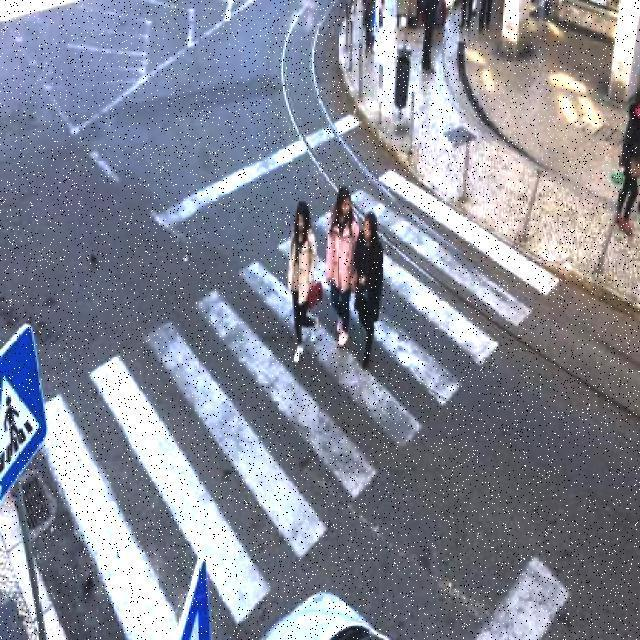Pedestrian crosswalk: (12, 165, 566, 639)
